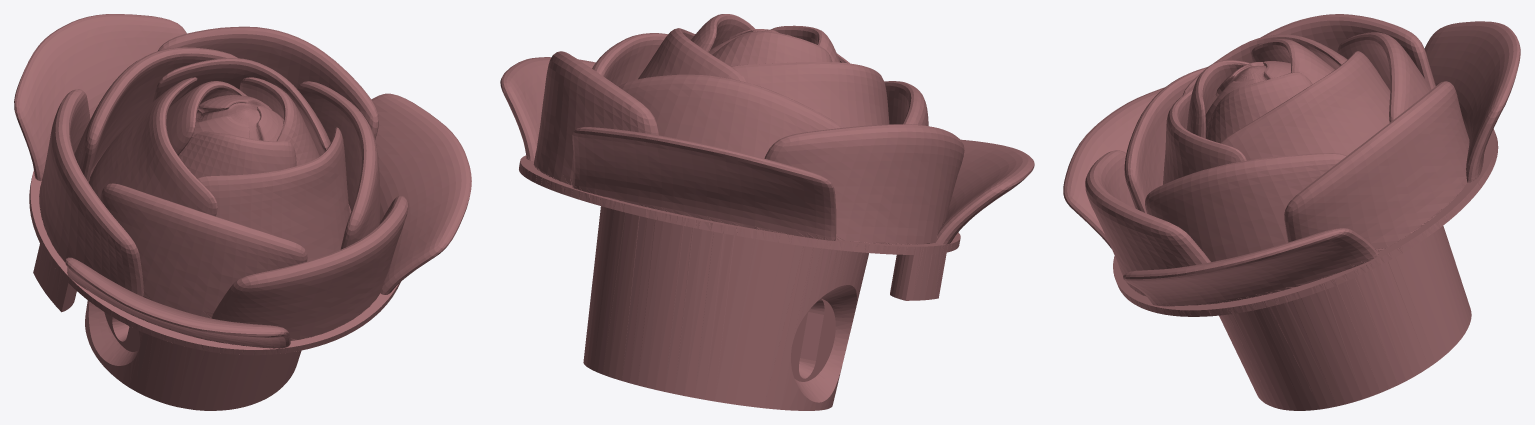
Rendered from frontpanel_rose.glb.
3 views of the same model, side by side, from view 1: azimuth 30°, elevation 25°; view 2: azimuth 150°, elevation 25°; view 3: azimuth 270°, elevation 25° (orthographic). The views are drawn at different scales.
Size of the model in its own units: 0.0458 by 0.0344 by 0.0427.
